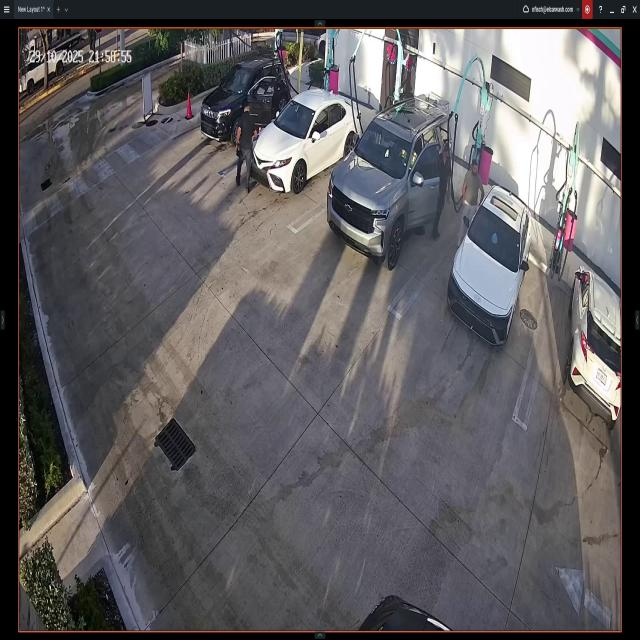Car: (329, 97, 452, 266), (451, 188, 531, 348), (251, 89, 359, 191), (571, 266, 621, 427), (200, 58, 290, 141), (316, 34, 328, 54)
